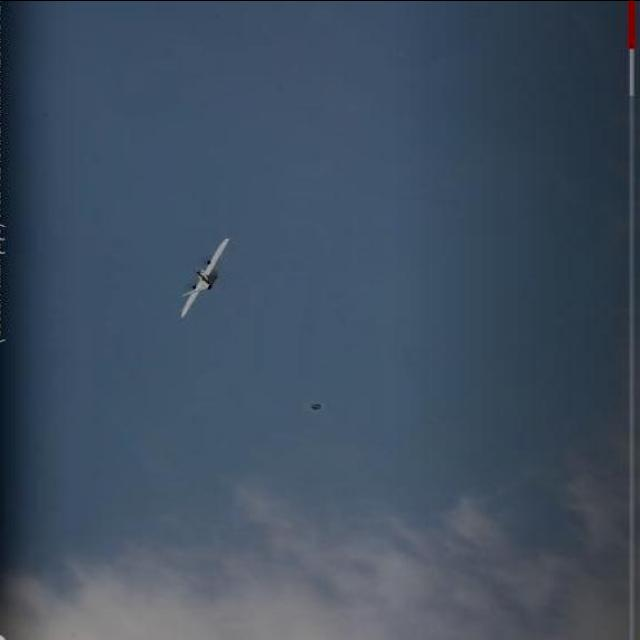plane: (176, 235, 232, 318)
